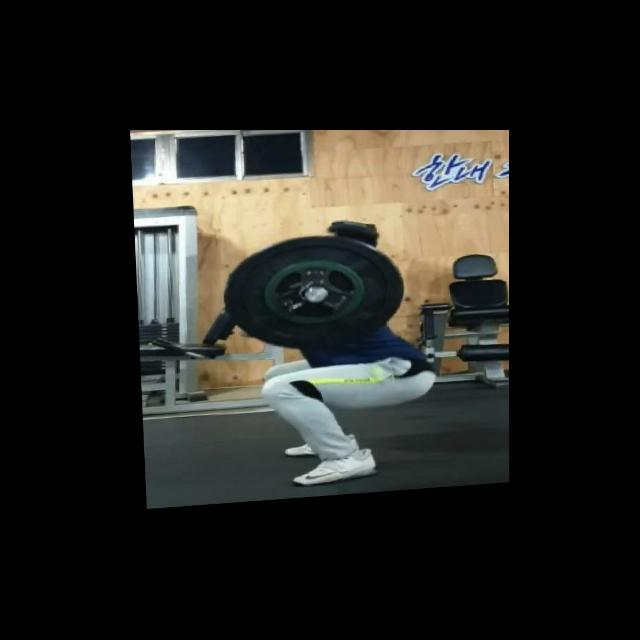barbell: (217, 229, 406, 358)
